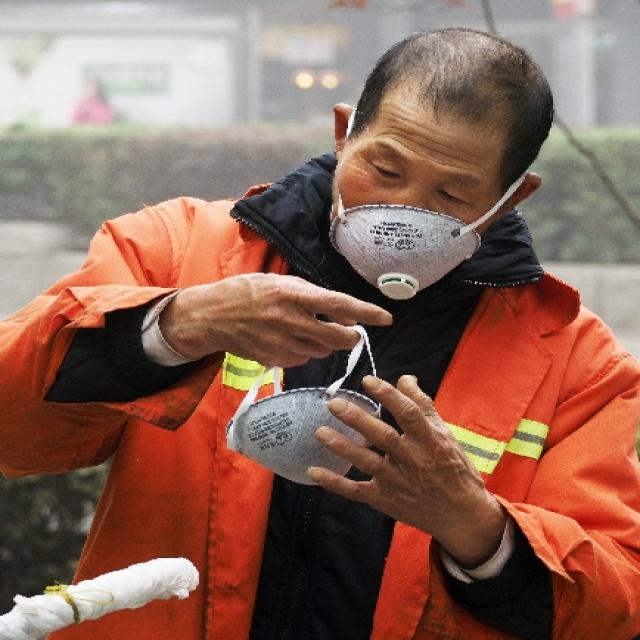mask: (334, 86, 501, 290)
